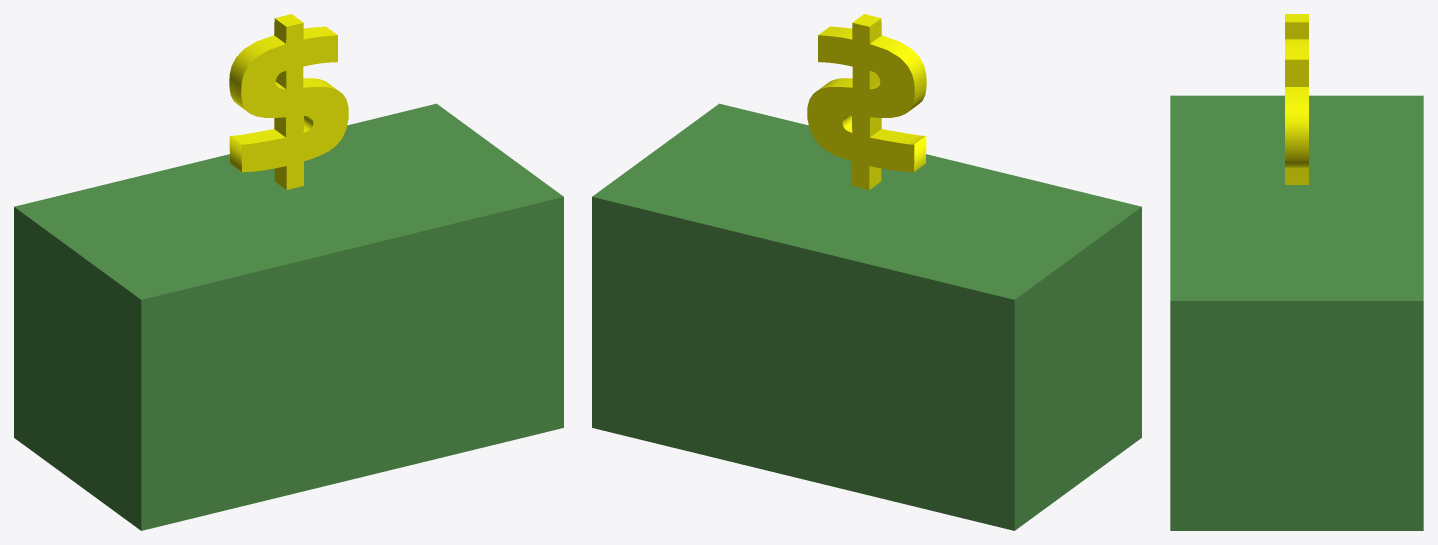
File: dollar.fbx
3 views of the same model, side by side, from view 1: azimuth 30°, elevation 25°; view 2: azimuth 150°, elevation 25°; view 3: azimuth 270°, elevation 25° (orthographic).
Parts seen in each view (by area): view 1: Brick_usd, Dollar; view 2: Brick_usd, Dollar; view 3: Brick_usd, Dollar.
Boxes of the visible parts, bbox=[...] form: Brick_usd: bbox=[14, 103, 563, 530]; Dollar: bbox=[229, 14, 348, 189]; Brick_usd: bbox=[592, 103, 1141, 530]; Dollar: bbox=[807, 14, 926, 189]; Brick_usd: bbox=[1170, 95, 1423, 530]; Dollar: bbox=[1285, 14, 1308, 184].
Size of the model in its own units: 39.88 by 37.17 by 20.81.
